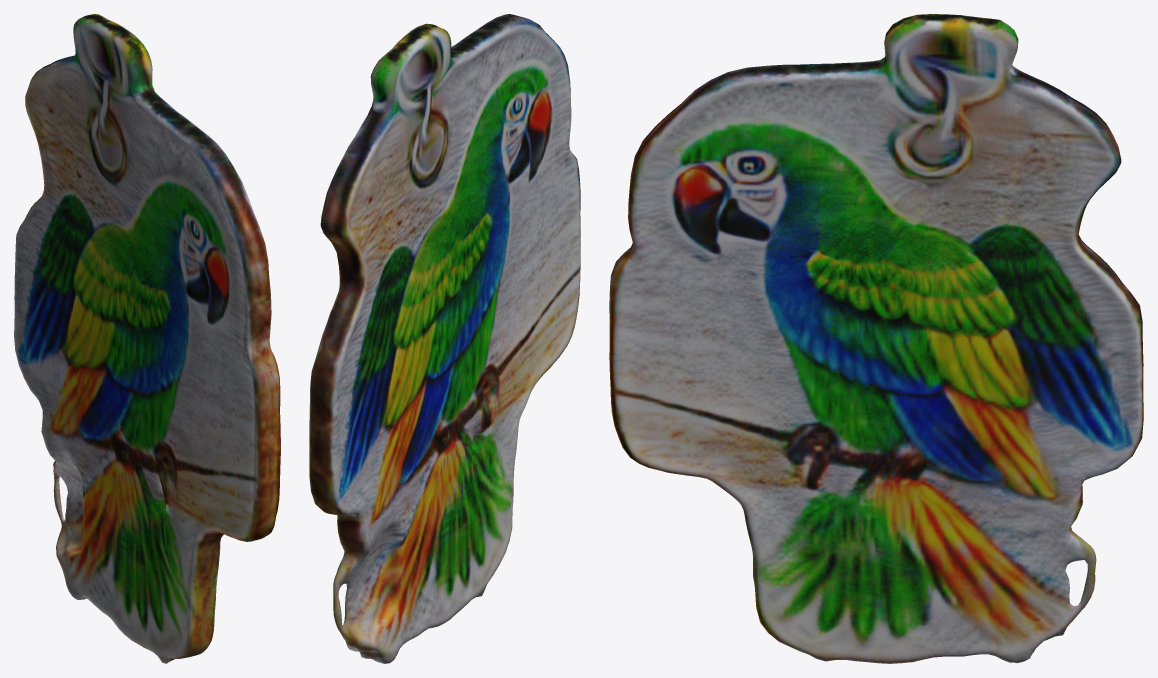
The model's file is llaveromadera.glb.
The picture shows the model from 3 angles, left to right: view 1: azimuth 30°, elevation 25°; view 2: azimuth 150°, elevation 25°; view 3: azimuth 270°, elevation 25°; orthographic projection. The views are drawn at different scales.
Visible parts, largest first — view 1: node_84be999e_7d2b_4a49_a213_60902b5066b9_mesh0; view 2: node_84be999e_7d2b_4a49_a213_60902b5066b9_mesh0; view 3: node_84be999e_7d2b_4a49_a213_60902b5066b9_mesh0.
Part boxes in pixels (x1,y1,x2,y2): node_84be999e_7d2b_4a49_a213_60902b5066b9_mesh0: (14, 14, 280, 663); node_84be999e_7d2b_4a49_a213_60902b5066b9_mesh0: (309, 14, 580, 663); node_84be999e_7d2b_4a49_a213_60902b5066b9_mesh0: (609, 14, 1143, 663).
Size of the model in its own units: 0.0496 by 0.9917 by 0.7466.
Materials: 1 (1 with a texture image).
